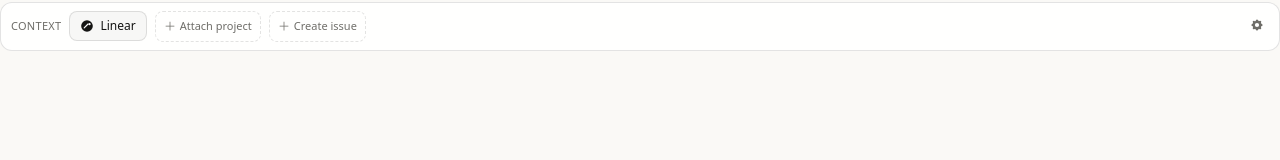
it: LinearSection › opens the Linear search dropdown when Linear button is clicked
This screenshot has width=1280, height=160.
What coordinates should you click on to do the following:
click the button "Linear"
I would click on:
 (108, 26)
Its box is [69, 11, 147, 41].
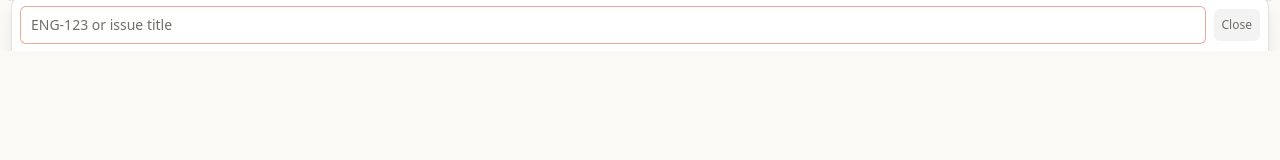
Result: the field with placeholder "ENG-123 or issue title" is shown at [20, 6, 1206, 44]
